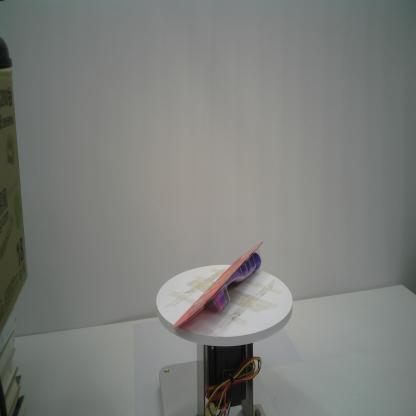Personal Hygiene: (172, 240, 263, 329)
